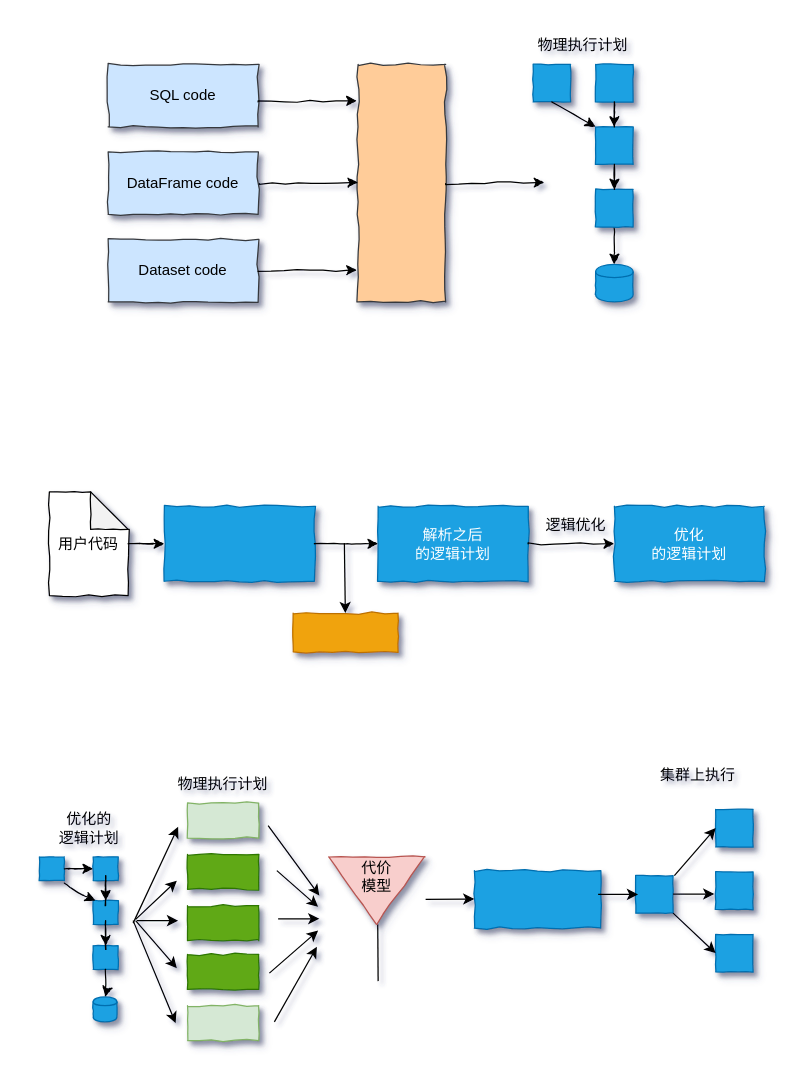
The diagram is 801 pixels wide and 1079 high, and some of its shapes have lost their labels. The shapes that lost their labels are listed below. From the top down, each one's centre as x and y in pixels, then its label:
the point at 402,184: Catalyst优化器
the point at 240,545: 尚未被解析 的逻辑计划
the point at 346,634: catalog
the point at 538,900: 最佳的物理 执行计划
